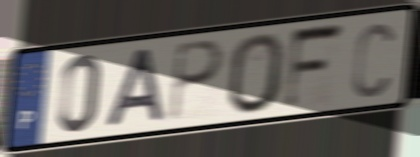0: (56, 52, 103, 136)
A: (101, 45, 168, 130)
C: (350, 20, 397, 102)
F: (281, 18, 347, 114)
O: (227, 30, 287, 117)
P: (167, 38, 226, 126)
